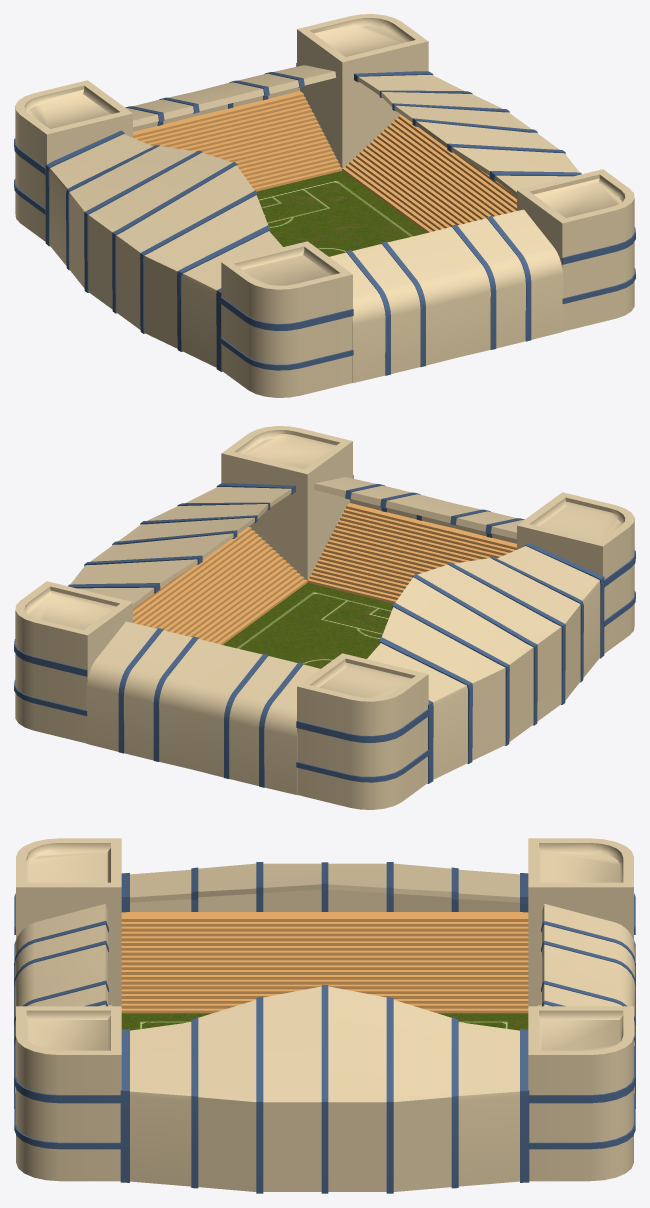
Rendered from infrastructure-building-stadium.fbx.
The picture shows the model from 3 angles, top to bottom: view 1: azimuth 30°, elevation 25°; view 2: azimuth 150°, elevation 25°; view 3: azimuth 270°, elevation 25°; orthographic projection. The views are drawn at different scales.
Parts seen in each view (by area): view 1: infrastructure-building-stadium; view 2: infrastructure-building-stadium; view 3: infrastructure-building-stadium.
Boxes of the visible parts, x1,y1,x2,y2 form: infrastructure-building-stadium: (14,14,635,397); infrastructure-building-stadium: (14,426,635,809); infrastructure-building-stadium: (14,838,635,1193).
Size of the model in its own units: 50.61 by 13.72 by 55.43.
